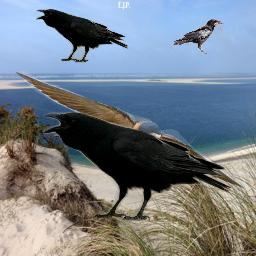Crow: (43, 112, 232, 222), (36, 9, 128, 63), (172, 18, 226, 54)
Swallow: (10, 66, 248, 189)
